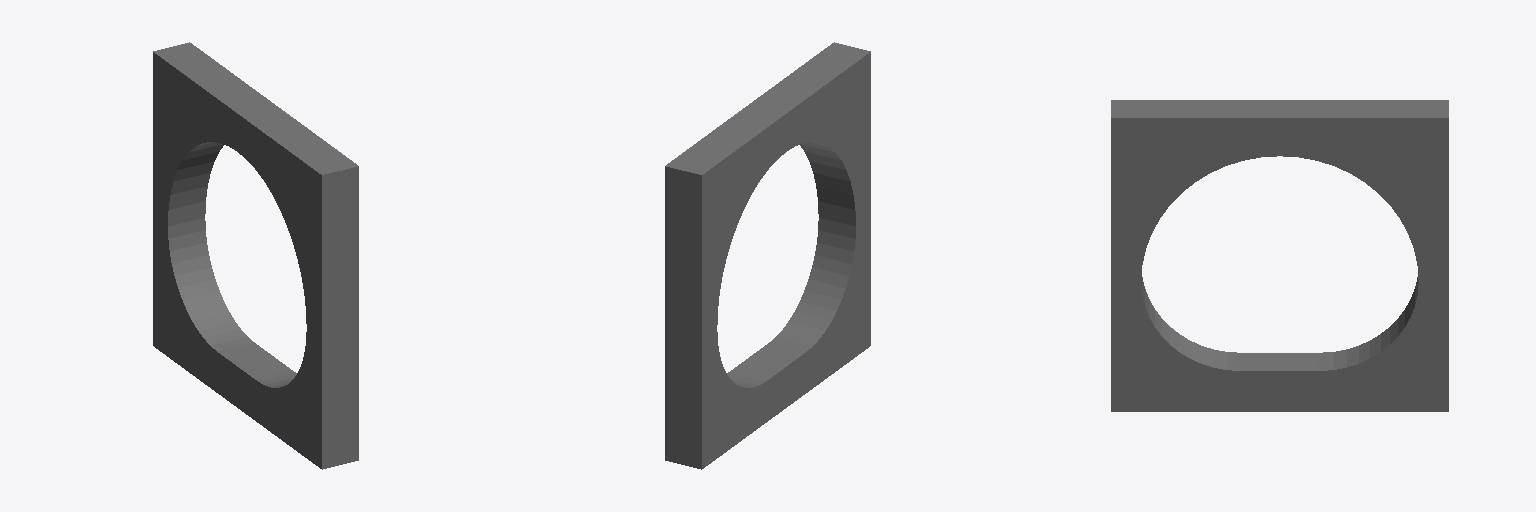
The model's file is concrete.obj.
The picture shows the model from 3 angles: view 1: azimuth 30°, elevation 25°; view 2: azimuth 150°, elevation 25°; view 3: azimuth 270°, elevation 25°; orthographic projection.
Visible parts, largest first — view 1: concrete:pCube2; view 2: concrete:pCube2; view 3: concrete:pCube2.
Part boxes in pixels (bbox=[...]): concrete:pCube2: bbox=[153, 42, 358, 469]; concrete:pCube2: bbox=[665, 42, 870, 469]; concrete:pCube2: bbox=[1111, 100, 1448, 411].
Size of the model in its own units: 0.5667 by 4.26 by 4.43.